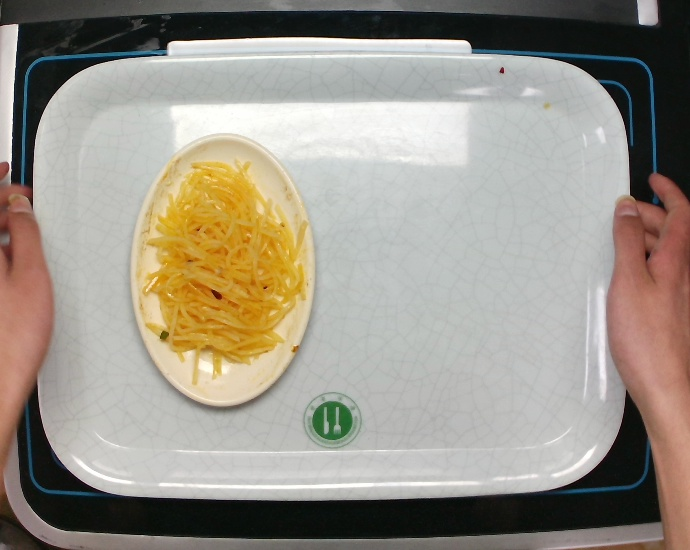JYsf-Tuo_Yuan_Wan: (125, 129, 318, 410)
